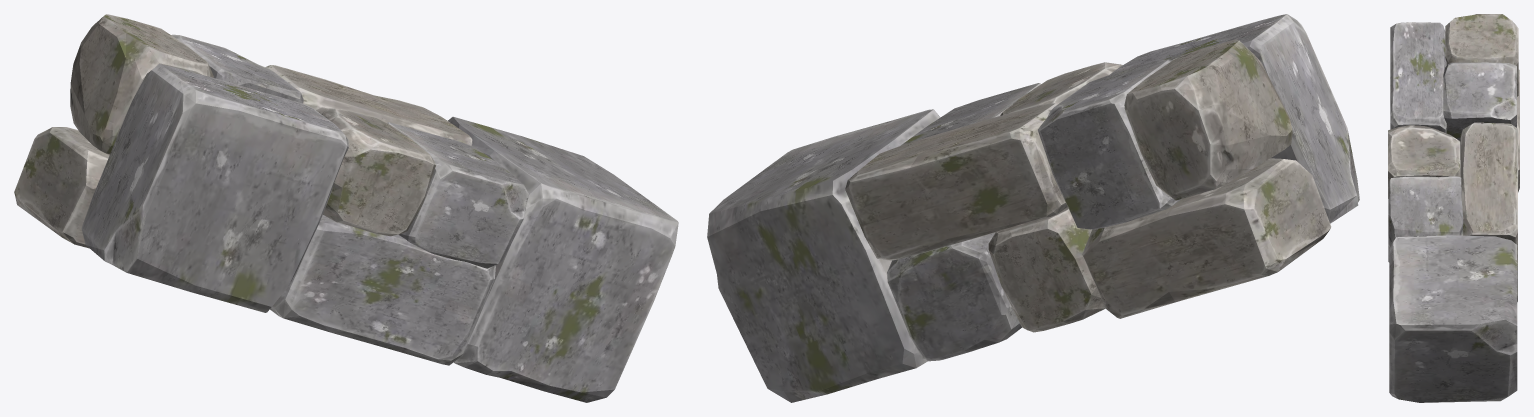
3 views of the same model, side by side, from view 1: azimuth 30°, elevation 25°; view 2: azimuth 150°, elevation 25°; view 3: azimuth 270°, elevation 25° (orthographic). The views are drawn at different scales.
Visible parts, largest first — view 1: SM_BB_T3_BeamThick_Medium_Shallow_LOD0; view 2: SM_BB_T3_BeamThick_Medium_Shallow_LOD0; view 3: SM_BB_T3_BeamThick_Medium_Shallow_LOD0.
Part boxes in pixels (x1,y1,x2,y2): SM_BB_T3_BeamThick_Medium_Shallow_LOD0: (14,14,678,402); SM_BB_T3_BeamThick_Medium_Shallow_LOD0: (707,14,1359,402); SM_BB_T3_BeamThick_Medium_Shallow_LOD0: (1388,14,1519,402).
Size of the model in its own units: 1.77 by 1.26 by 0.5697.
1 material, 1 textured.
